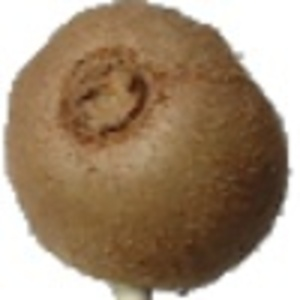kiwi: (2, 1, 290, 300)
